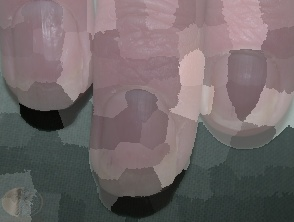Nail_psoriasis: (1, 39, 97, 110), (91, 137, 183, 189), (239, 73, 294, 141)
